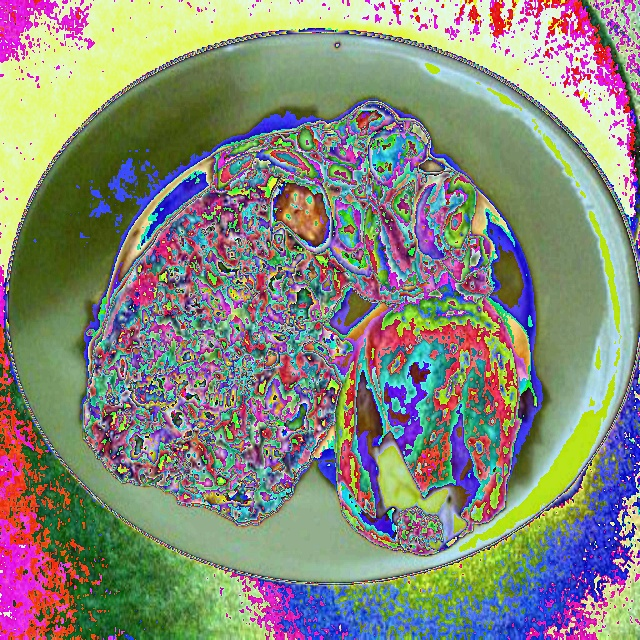background: (82, 101, 538, 558)
